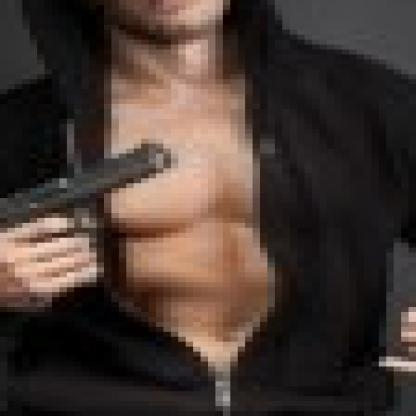gun: (0, 139, 186, 272)
